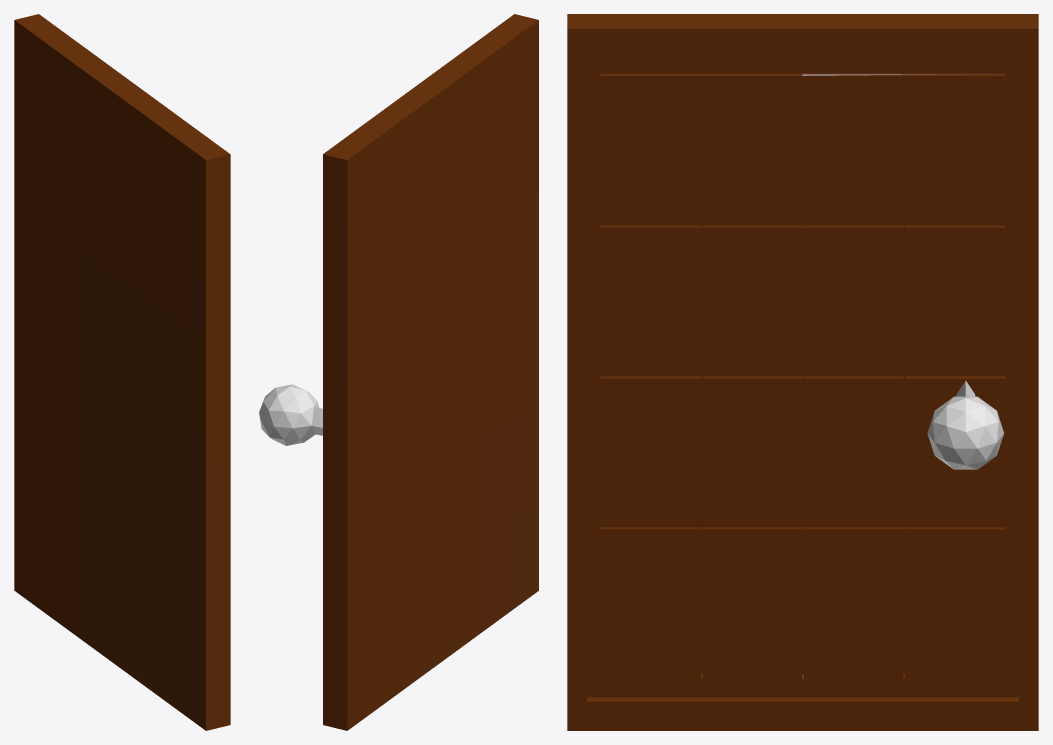
The model's file is door.fbx.
3 renders of one model, left to right at view 1: azimuth 30°, elevation 25°; view 2: azimuth 150°, elevation 25°; view 3: azimuth 270°, elevation 25°, orthographic. The views are drawn at different scales.
Parts seen in each view (by area): view 1: Door; view 2: Door, DoorHandle; view 3: Door, DoorHandle.
Part boxes in pixels (x1=…): Door: x1=14, y1=14, x2=230, y2=730; Door: x1=323, y1=14, x2=538, y2=730; DoorHandle: x1=259, y1=384, x2=322, y2=445; Door: x1=567, y1=14, x2=1038, y2=730; DoorHandle: x1=927, y1=380, x2=1004, y2=469.
Size of the model in its own units: 77.72 by 375 by 228.
